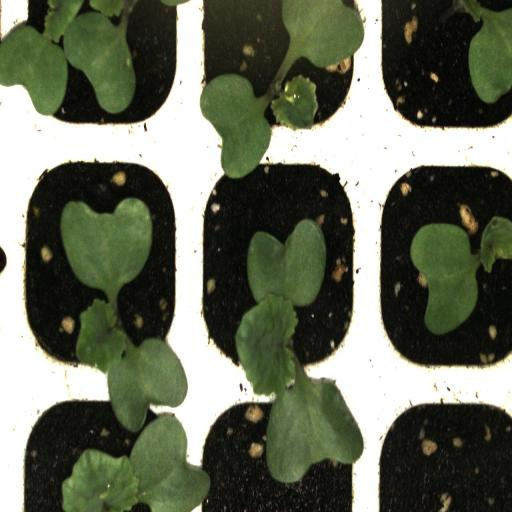seedling: (188, 153, 370, 388), (8, 145, 184, 382), (371, 155, 512, 388), (189, 0, 368, 152)
twoseedling: (8, 0, 189, 145)
